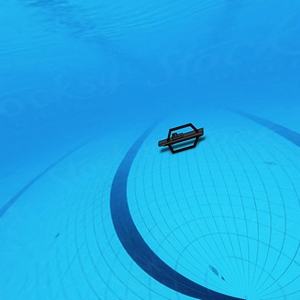submarine: (157, 125, 202, 156)
